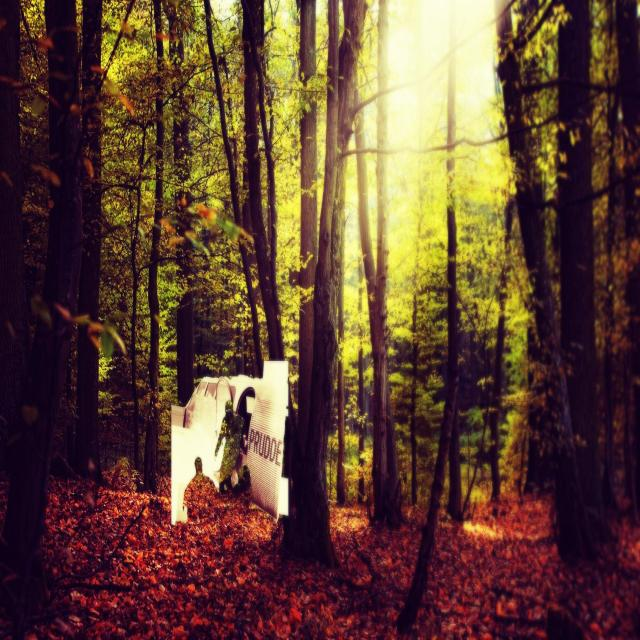airplane: (171, 357, 288, 531)
